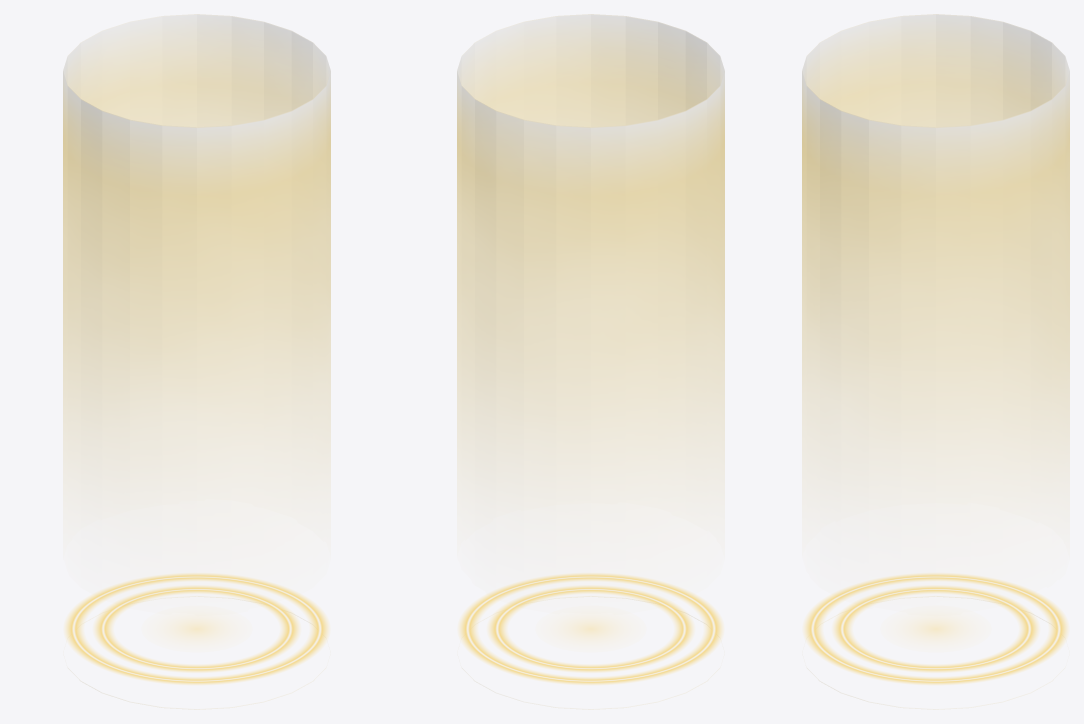
Rendered from fx_safe.glb.
The picture shows the model from 3 angles, left to right: view 1: azimuth 30°, elevation 25°; view 2: azimuth 150°, elevation 25°; view 3: azimuth 270°, elevation 25°; orthographic projection.
Visible parts, largest first — view 1: fx_safe_wall, fx_safe; view 2: fx_safe_wall, fx_safe; view 3: fx_safe_wall, fx_safe.
Boxes of the visible parts, x1,y1,x2,y2 form: fx_safe_wall: (63, 14, 330, 709); fx_safe: (65, 573, 328, 684); fx_safe_wall: (457, 14, 724, 709); fx_safe: (459, 573, 722, 684); fx_safe_wall: (802, 14, 1069, 709); fx_safe: (804, 573, 1067, 684).
Size of the model in its own units: 1 by 2.4 by 1.
Materials: 2 (2 with a texture image).
